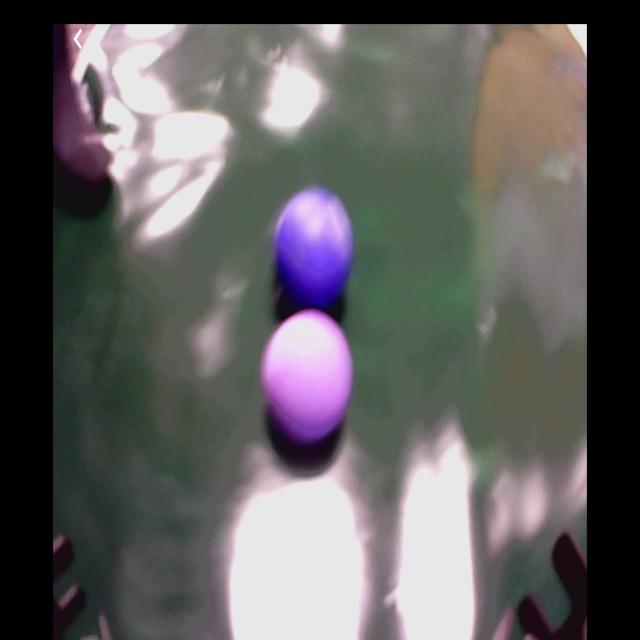ball: (264, 311, 349, 446), (275, 188, 355, 306)
